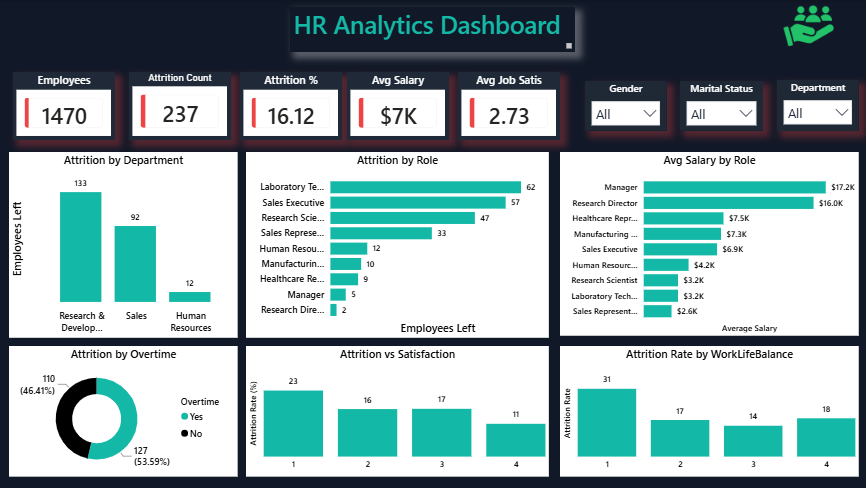

Layout of this report page (visuals, bound fields, positions):
{"tool":"powerbi","page":{"name":"Executive Summary","canvas":[1280,720],"ordinal":4},"visuals":[{"type":"columnChart","fields":{"Category":["Employees.WorkLifeBalance"],"Y":["Employees.Attrition Rate"]},"box":[825.8,508.4,439.3,192.5],"z":10000},{"type":"slicer","title":"Department","fields":{"Values":["Employees.Department"]},"box":[1144.7,117.6,120.5,74.9],"z":11000},{"type":"slicer","title":"Gender","fields":{"Values":["Employees.Gender"]},"box":[862.5,119,120.5,73.5],"z":12000},{"type":"slicer","title":"Marital Status","fields":{"Values":["Employees.MaritalStatus"]},"box":[1002.1,119,122,73.5],"z":14000},{"type":"cardVisual","title":"Employees","fields":{"Data":["Employees.Total Employees"]},"box":[22,105.8,149.9,99.9],"z":15002},{"type":"cardVisual","title":"Attrition Count","fields":{"Data":["Employees.Employees Left"]},"box":[192.5,105.8,149.9,99.9],"z":15003},{"type":"cardVisual","title":"Attrition %","fields":{"Data":["Employees.Attrition Rate"]},"box":[355.6,105.8,149.9,99.9],"z":15004},{"type":"cardVisual","title":"Avg Salary","fields":{"Data":["Employees.Average Salary"]},"box":[512.8,105.8,149.9,99.9],"z":15005},{"type":"cardVisual","title":"Avg Job Satis","fields":{"Data":["Employees.Avg Job Satisfaction"]},"box":[675.9,105.8,149.9,99.9],"z":15006},{"type":"textbox","title":"HR Analytics Dashboard","box":[429.1,10.3,418.8,66.1],"z":15007},{"type":"columnChart","title":"Attrition by Department","fields":{"Category":["Employees.Department"],"Y":["Employees.Employees Left"]},"box":[16.2,223.3,336.5,273.3],"z":15008},{"type":"clusteredBarChart","title":"Attrition by Role","fields":{"Category":["Employees.JobRole"],"Y":["Employees.Employees Left"]},"box":[364.4,223.3,445.2,273.3],"z":15009},{"type":"clusteredBarChart","title":"Avg Salary by Role","fields":{"Category":["Employees.JobRole"],"Y":["Employees.Average Salary"]},"box":[825.8,223.3,439.3,270.4],"z":15010},{"type":"donutChart","title":"Attrition by Overtime","fields":{"Category":["Employees.OverTime"],"Y":["Employees.Employees Left"]},"box":[16.2,508.4,336.5,192.5],"z":15011},{"type":"columnChart","title":"Attrition vs Satisfaction","fields":{"Category":["Employees.JobSatisfaction"],"Y":["Employees.Attrition Rate"]},"box":[364.4,508.4,445.2,192.5],"z":15012},{"type":"image","box":[1124.1,0,133.7,76.4],"z":15013}]}

Visuals, with their boxes in screenshot pixels (x1, y1, x2, y2), scaled from the page's 1280x720 canvas onto the 866x488 screenshot:
columnChart - Employees.WorkLifeBalance x Employees.Attrition Rate: bbox=[559, 345, 856, 475]
"Department" slicer: bbox=[774, 80, 856, 130]
"Gender" slicer: bbox=[584, 81, 665, 130]
"Marital Status" slicer: bbox=[678, 81, 761, 130]
"Employees" cardVisual: bbox=[15, 72, 116, 139]
"Attrition Count" cardVisual: bbox=[130, 72, 232, 139]
"Attrition %" cardVisual: bbox=[241, 72, 342, 139]
"Avg Salary" cardVisual: bbox=[347, 72, 448, 139]
"Avg Job Satis" cardVisual: bbox=[457, 72, 559, 139]
"HR Analytics Dashboard" textbox: bbox=[290, 7, 574, 52]
"Attrition by Department" columnChart: bbox=[11, 151, 239, 337]
"Attrition by Role" clusteredBarChart: bbox=[247, 151, 548, 337]
"Avg Salary by Role" clusteredBarChart: bbox=[559, 151, 856, 335]
"Attrition by Overtime" donutChart: bbox=[11, 345, 239, 475]
"Attrition vs Satisfaction" columnChart: bbox=[247, 345, 548, 475]
image: bbox=[761, 0, 851, 52]
